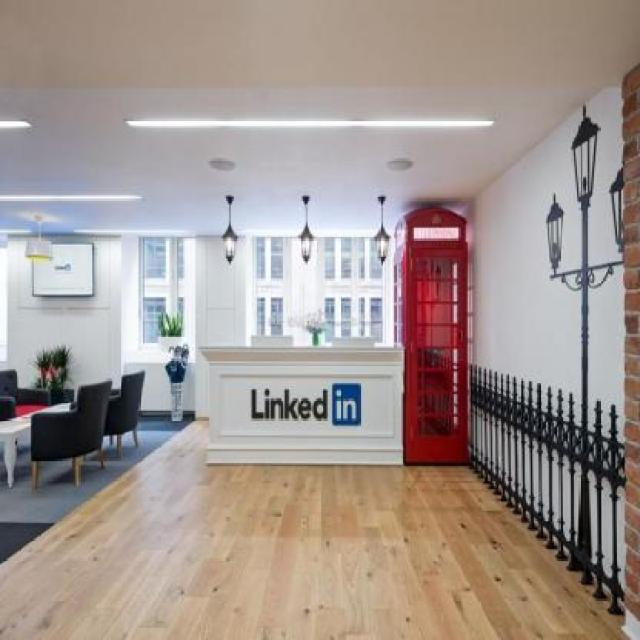frontdesk: (186, 329, 409, 473)
